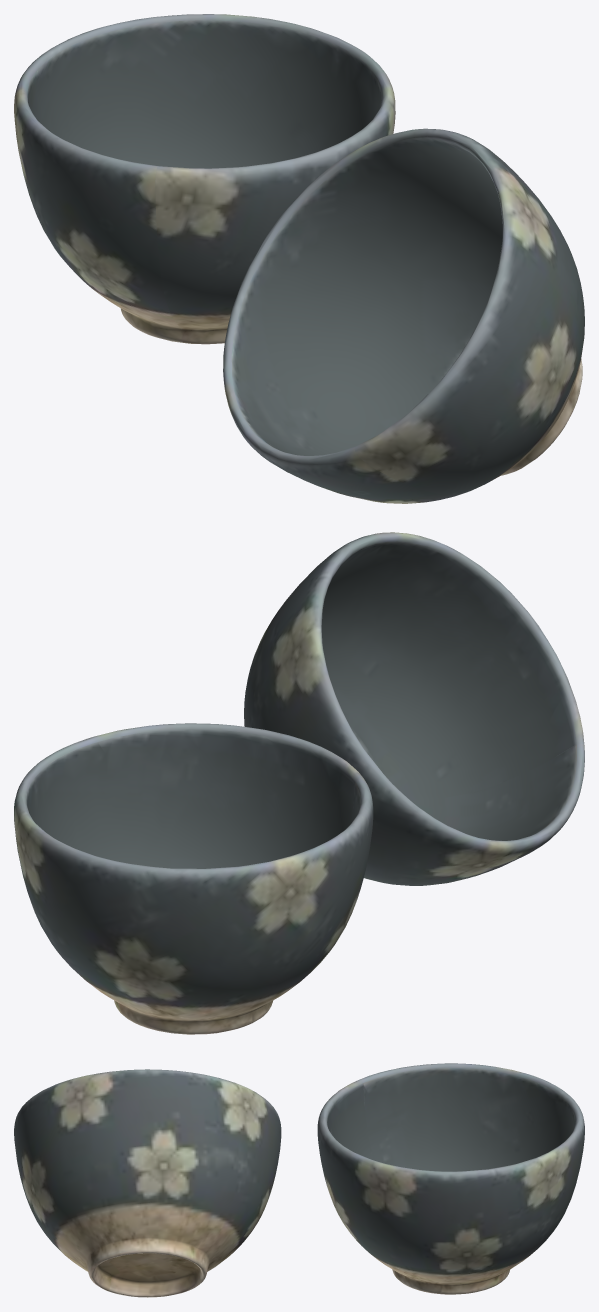
File: teacup2.glb
The picture shows the model from 3 angles, top to bottom: view 1: azimuth 30°, elevation 25°; view 2: azimuth 150°, elevation 25°; view 3: azimuth 270°, elevation 25°; orthographic projection. The views are drawn at different scales.
Parts seen in each view (by area): view 1: teacup001_Material #25_0; view 2: teacup001_Material #25_0; view 3: teacup001_Material #25_0.
Boxes of the visible parts, box(x1,y1,x2,y2) form: teacup001_Material #25_0: box(14, 14, 584, 503); teacup001_Material #25_0: box(14, 532, 584, 1034); teacup001_Material #25_0: box(14, 1063, 584, 1297).
Bounding box in the file's own units: 0.1141 × 0.1074 × 0.2436.
1 material, 1 textured.
